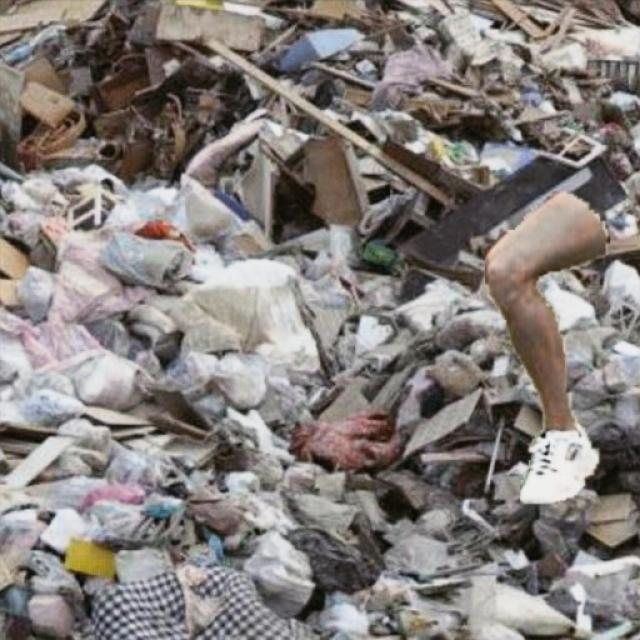Person in Rubble: (485, 192, 609, 502)
